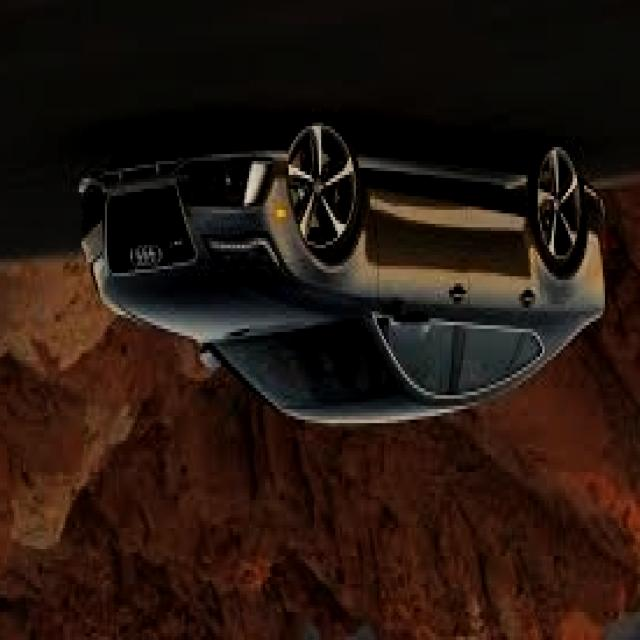black: (62, 102, 631, 441)
